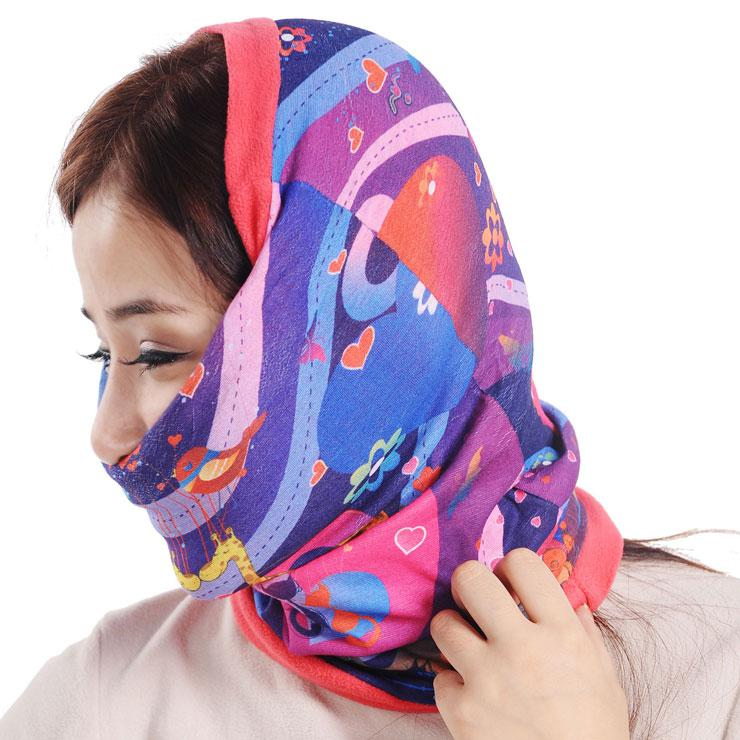WRONG: (67, 299, 312, 544)
